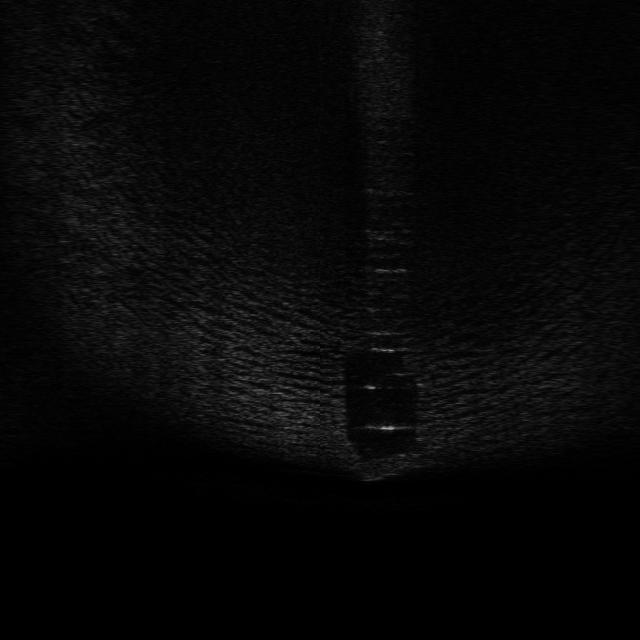cube: (356, 452, 420, 482)
